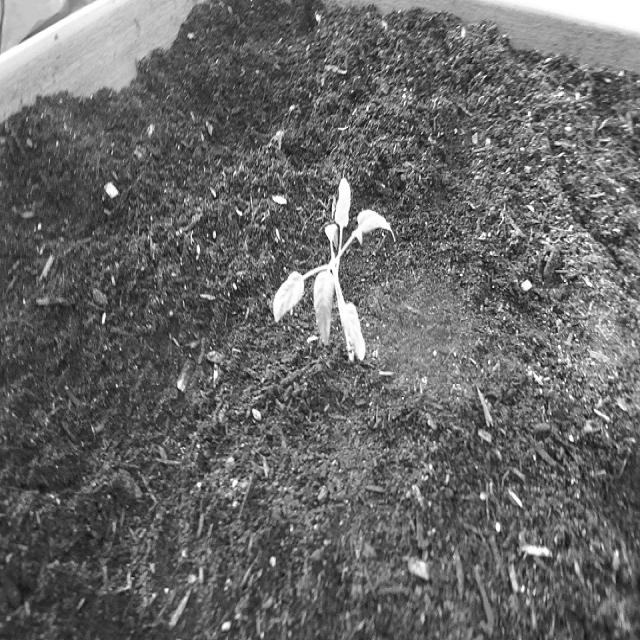Healthy: (262, 171, 406, 390)
